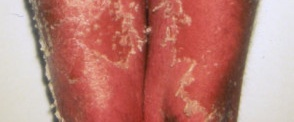SJS-TEN: (27, 0, 238, 122)
